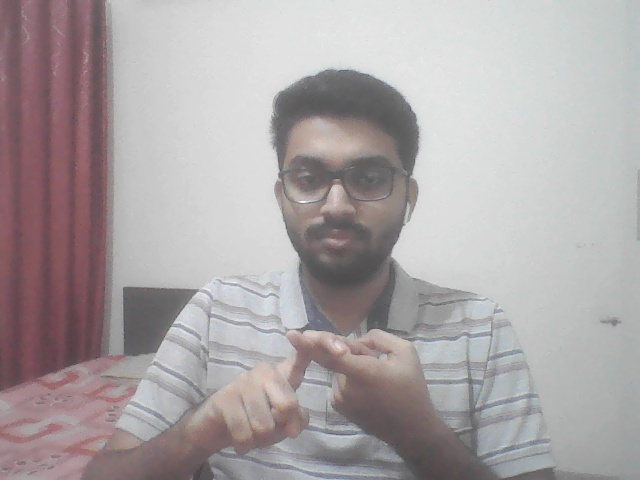friend: (166, 302, 454, 466)
